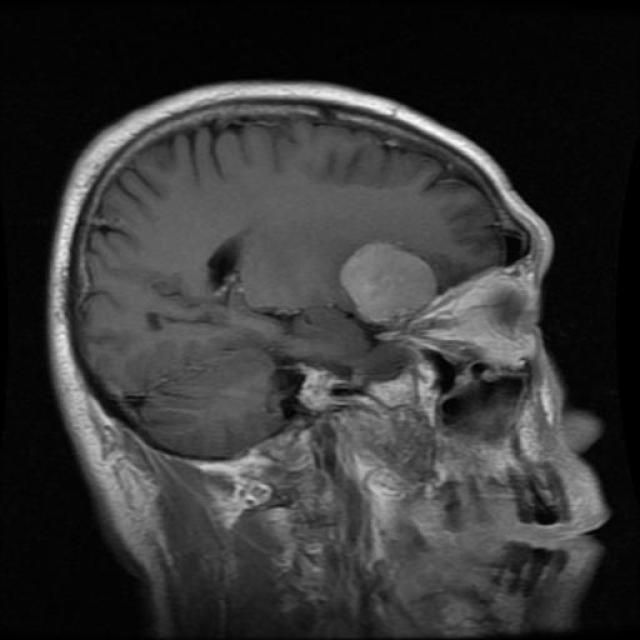meningioma: (339, 244, 439, 331)
